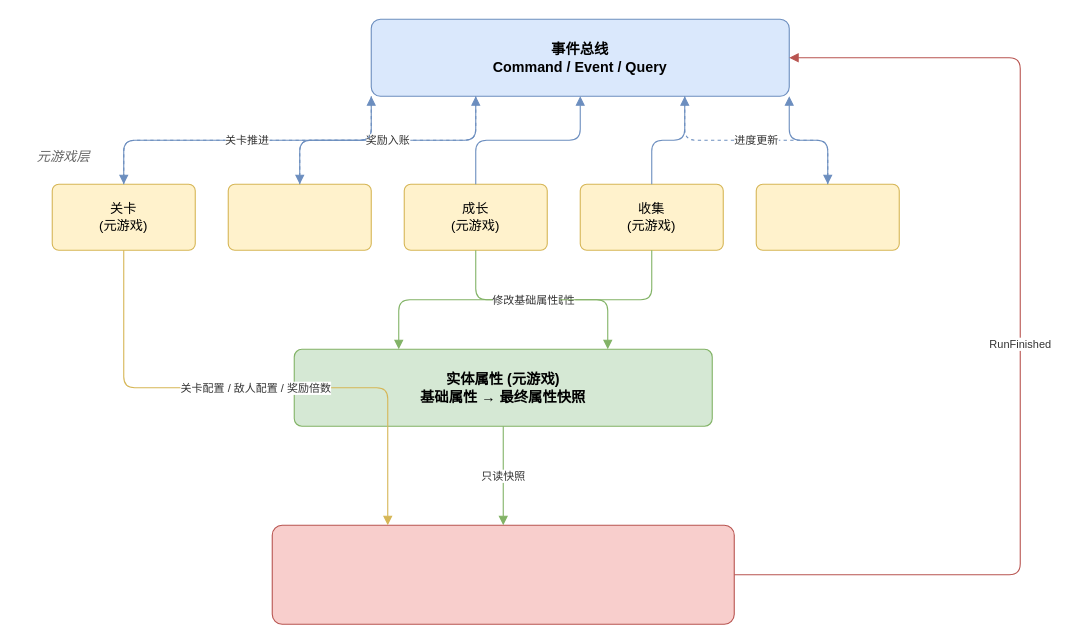
This 1069x644 diagram has some shape labels left out. Here are the shapes that lost their labels. From the top down, the centre of each, then its label:
At pixel 299 216: "资源 (元游戏)".
At pixel 827 216: "任务 (元游戏)".
At pixel 502 574: "核心循环 (非元游戏) 输入：玩家快照 / 敌人快照 / 关卡配置 / 奖励倍数 输出：RunFinished（结果 / 奖励 / 日志）".
